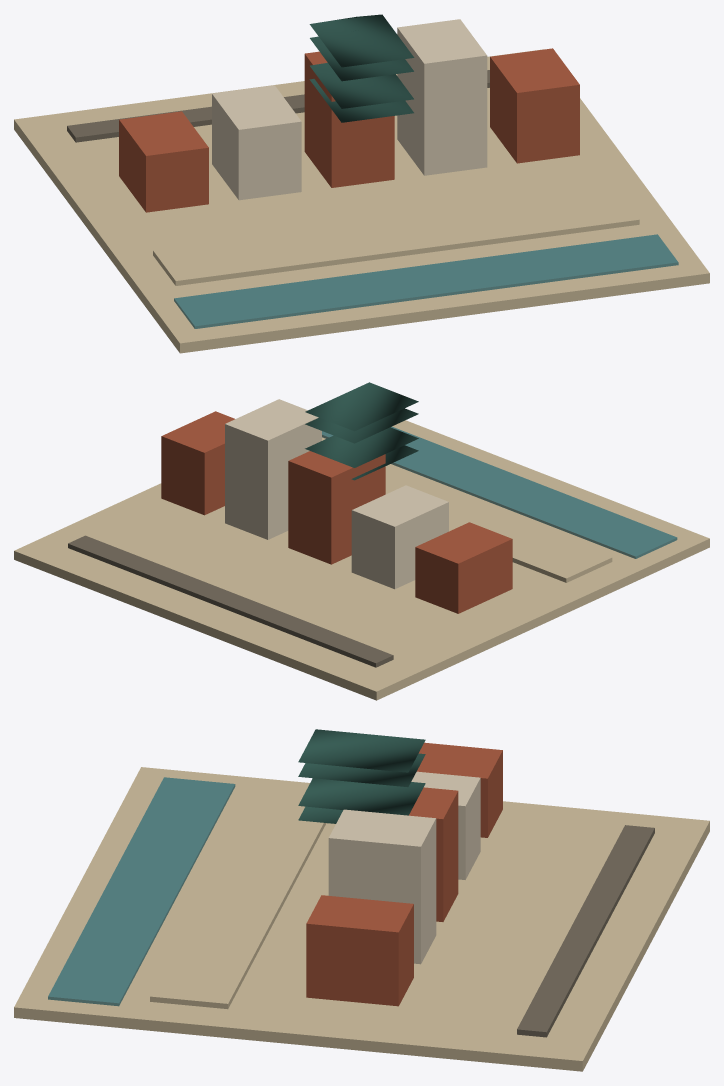
Rendered from model-medium.glb.
The picture shows the model from 3 angles, top to bottom: view 1: azimuth 30°, elevation 25°; view 2: azimuth 150°, elevation 25°; view 3: azimuth 270°, elevation 25°; orthographic projection. The views are drawn at different scales.
Visible parts, largest first — view 1: context_site_plinth, street_public_axis, context_water_edge, street_facade_3, street_facade_4, street_facade_1, street_facade_0, street_facade_2, street_roof_3, street_roof_1, front_scale_strip, street_roof_2 (+1 smaller); view 2: context_site_plinth, context_water_edge, street_facade_3, street_facade_2, street_facade_1, street_facade_0, front_scale_strip, street_public_axis, street_facade_4, street_roof_3, street_roof_1, street_roof_2; view 3: context_site_plinth, street_public_axis, context_water_edge, street_facade_4, street_facade_3, front_scale_strip, street_roof_3, street_facade_0, street_facade_2, street_roof_1, street_facade_1, street_roof_2 (+1 smaller).
Boxes of the visible parts, bbox=[...] form: context_site_plinth: bbox=[14, 49, 709, 353]; street_public_axis: bbox=[153, 189, 639, 285]; context_water_edge: bbox=[174, 234, 678, 328]; street_facade_3: bbox=[397, 19, 487, 175]; street_facade_4: bbox=[490, 48, 579, 163]; street_facade_1: bbox=[212, 85, 301, 200]; street_facade_0: bbox=[119, 111, 208, 212]; street_facade_2: bbox=[304, 51, 394, 187]; street_roof_3: bbox=[309, 14, 414, 67]; street_roof_1: bbox=[310, 62, 413, 108]; front_scale_strip: bbox=[67, 70, 489, 142]; street_roof_2: bbox=[310, 30, 413, 81]; context_site_plinth: bbox=[14, 420, 709, 700]; context_water_edge: bbox=[322, 426, 677, 558]; street_facade_3: bbox=[225, 399, 321, 539]; street_facade_2: bbox=[288, 451, 385, 564]; street_facade_1: bbox=[351, 485, 448, 589]; street_facade_0: bbox=[415, 522, 512, 613]; front_scale_strip: bbox=[68, 535, 393, 667]; street_public_axis: bbox=[385, 469, 612, 582]; street_facade_4: bbox=[161, 411, 234, 515]; street_roof_3: bbox=[305, 382, 418, 431]; street_roof_1: bbox=[305, 427, 418, 467]; street_roof_2: bbox=[305, 408, 418, 443]; context_site_plinth: bbox=[14, 767, 709, 1071]; street_public_axis: bbox=[150, 786, 326, 1009]; context_water_edge: bbox=[48, 777, 235, 1006]; street_facade_4: bbox=[306, 895, 413, 1006]; street_facade_3: bbox=[328, 809, 436, 964]; front_scale_strip: bbox=[517, 825, 654, 1037]; street_roof_3: bbox=[298, 729, 425, 772]; street_facade_0: bbox=[417, 742, 502, 837]; street_facade_2: bbox=[409, 787, 458, 921]; street_roof_1: bbox=[298, 778, 425, 815]; street_facade_1: bbox=[411, 771, 480, 879]; street_roof_2: bbox=[298, 753, 425, 787].
Size of the model in its own units: 9.55 by 2.89 by 9.55.
